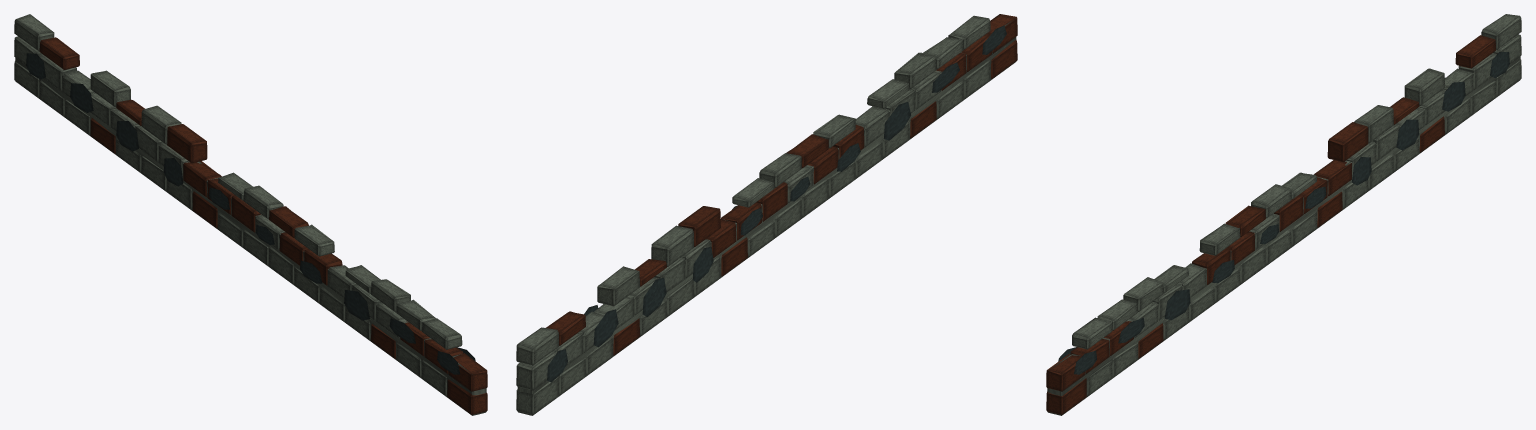
File: THStage_EastBoundary.fbx
3 renders of one model, left to right at view 1: azimuth 30°, elevation 25°; view 2: azimuth 150°, elevation 25°; view 3: azimuth 330°, elevation 25°, orthographic. The views are drawn at different scales.
Visible parts, largest first — view 1: THStage_EastBoundary; view 2: THStage_EastBoundary; view 3: THStage_EastBoundary.
Boxes of the visible parts, x1,y1,x2,y2 form: THStage_EastBoundary: (14, 14, 487, 415); THStage_EastBoundary: (516, 14, 1017, 415); THStage_EastBoundary: (1046, 14, 1521, 415).
Bounding box in the file's own units: 0.178 × 0.6632 × 8.19.
1 material, 1 textured.
